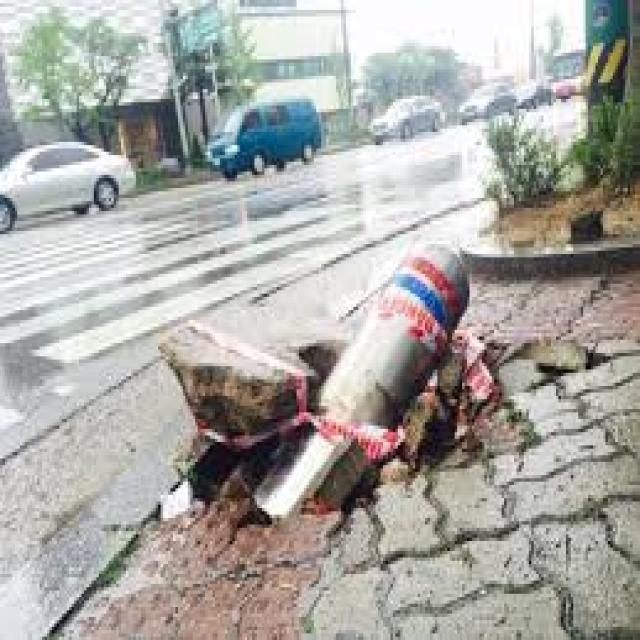bollard: (239, 225, 481, 556)
